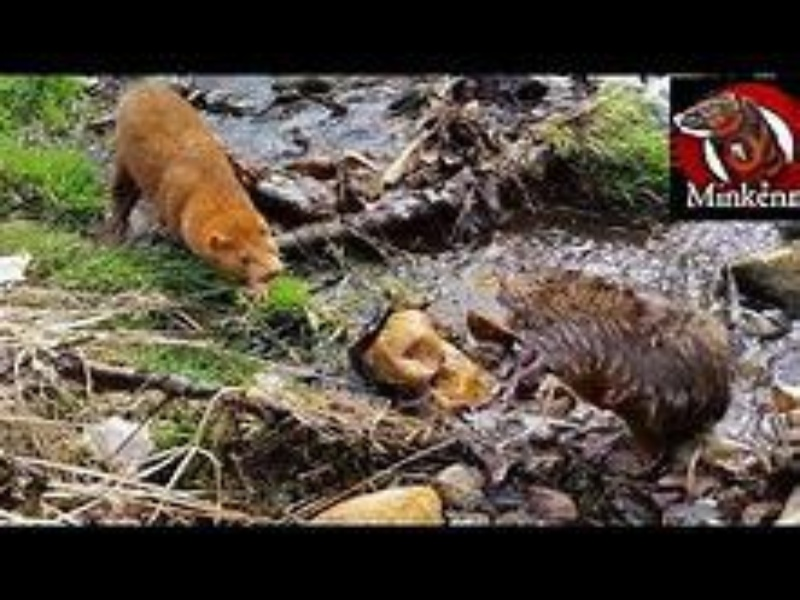minkish: (102, 87, 284, 291)
